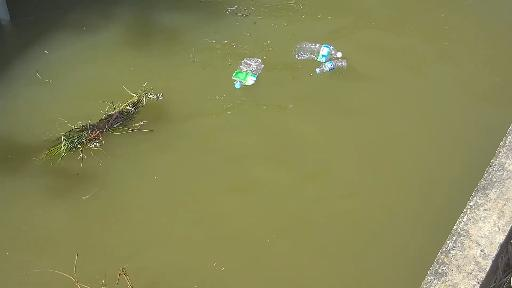plastic: (219, 53, 274, 86), (290, 44, 343, 58), (313, 59, 356, 73)
twig: (15, 69, 165, 168), (30, 254, 165, 288)
